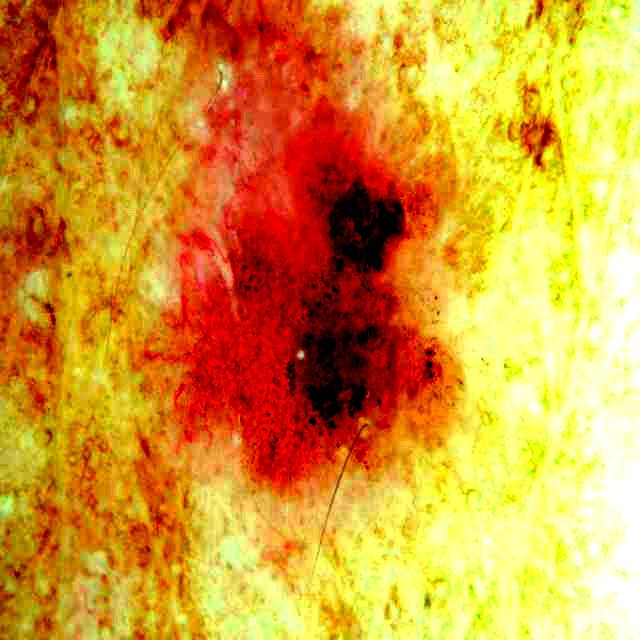BCC: (176, 117, 457, 487)
